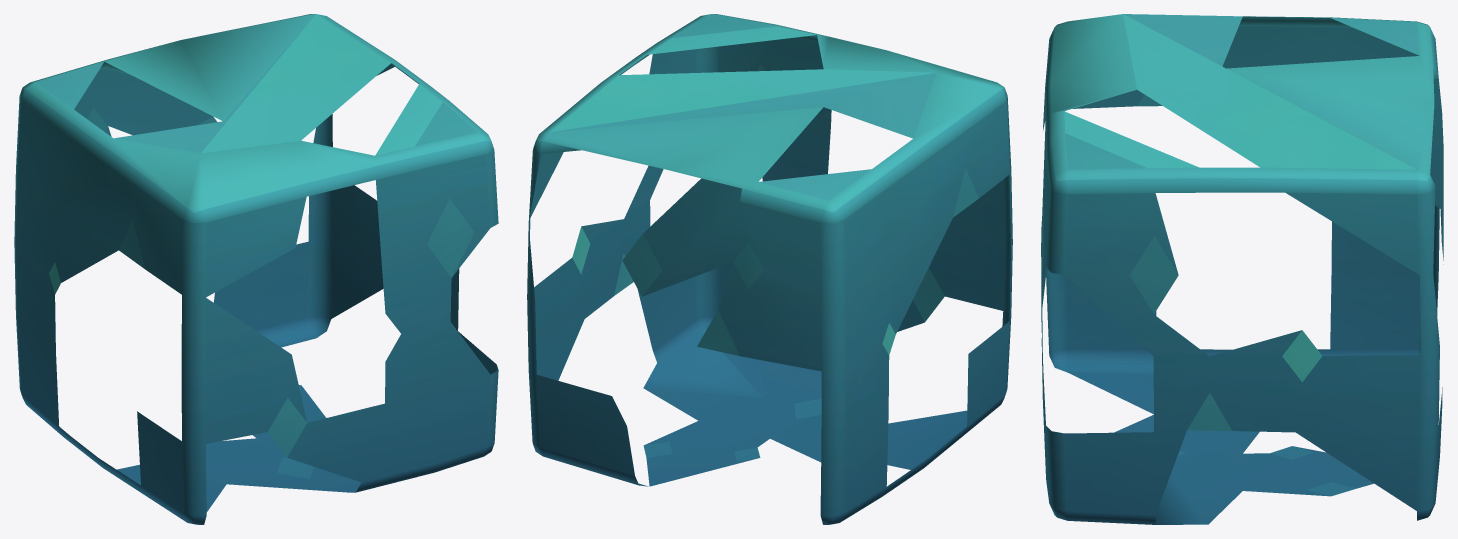
Rendered from snow_box_dest2.fbx.
The picture shows the model from 3 angles, left to right: view 1: azimuth 30°, elevation 25°; view 2: azimuth 150°, elevation 25°; view 3: azimuth 270°, elevation 25°; orthographic projection. The views are drawn at different scales.
Parts seen in each view (by area): view 1: Ice_block_2_LOD0; view 2: Ice_block_2_LOD0; view 3: Ice_block_2_LOD0.
Part boxes in pixels (left/top/right/bottom): Ice_block_2_LOD0: left=14, top=14, right=498, bottom=524; Ice_block_2_LOD0: left=527, top=14, right=1012, bottom=524; Ice_block_2_LOD0: left=1041, top=14, right=1443, bottom=524.
Bounding box in the file's own units: 42.71 × 44.64 × 42.77.
